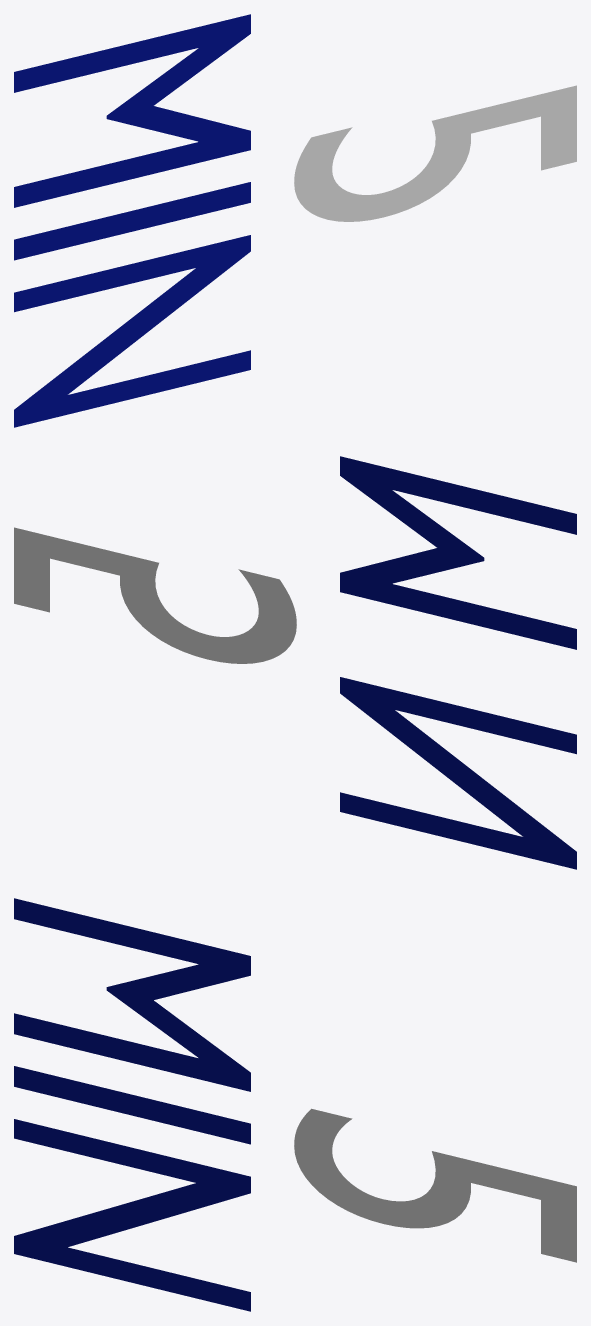
File: 地面标识-限速下限5.gltf
3 views of the same model, one above another, from view 1: azimuth 30°, elevation 25°; view 2: azimuth 150°, elevation 25°; view 3: azimuth 330°, elevation 25° (orthographic).
Parts seen in each view (by area): view 1: 文本.002, 文本; view 2: 文本.002, 文本; view 3: 文本.002, 文本.
Part boxes in pixels (x1=…): 文本.002: x1=14, y1=14, x2=250, y2=427; 文本: x1=294, y1=85, x2=576, y2=221; 文本.002: x1=340, y1=456, x2=576, y2=869; 文本: x1=14, y1=527, x2=296, y2=663; 文本.002: x1=14, y1=898, x2=250, y2=1311; 文本: x1=294, y1=1108, x2=576, y2=1262.
Bounding box in the file's own units: 3.38 × 2.04 × 7.72e-07.
